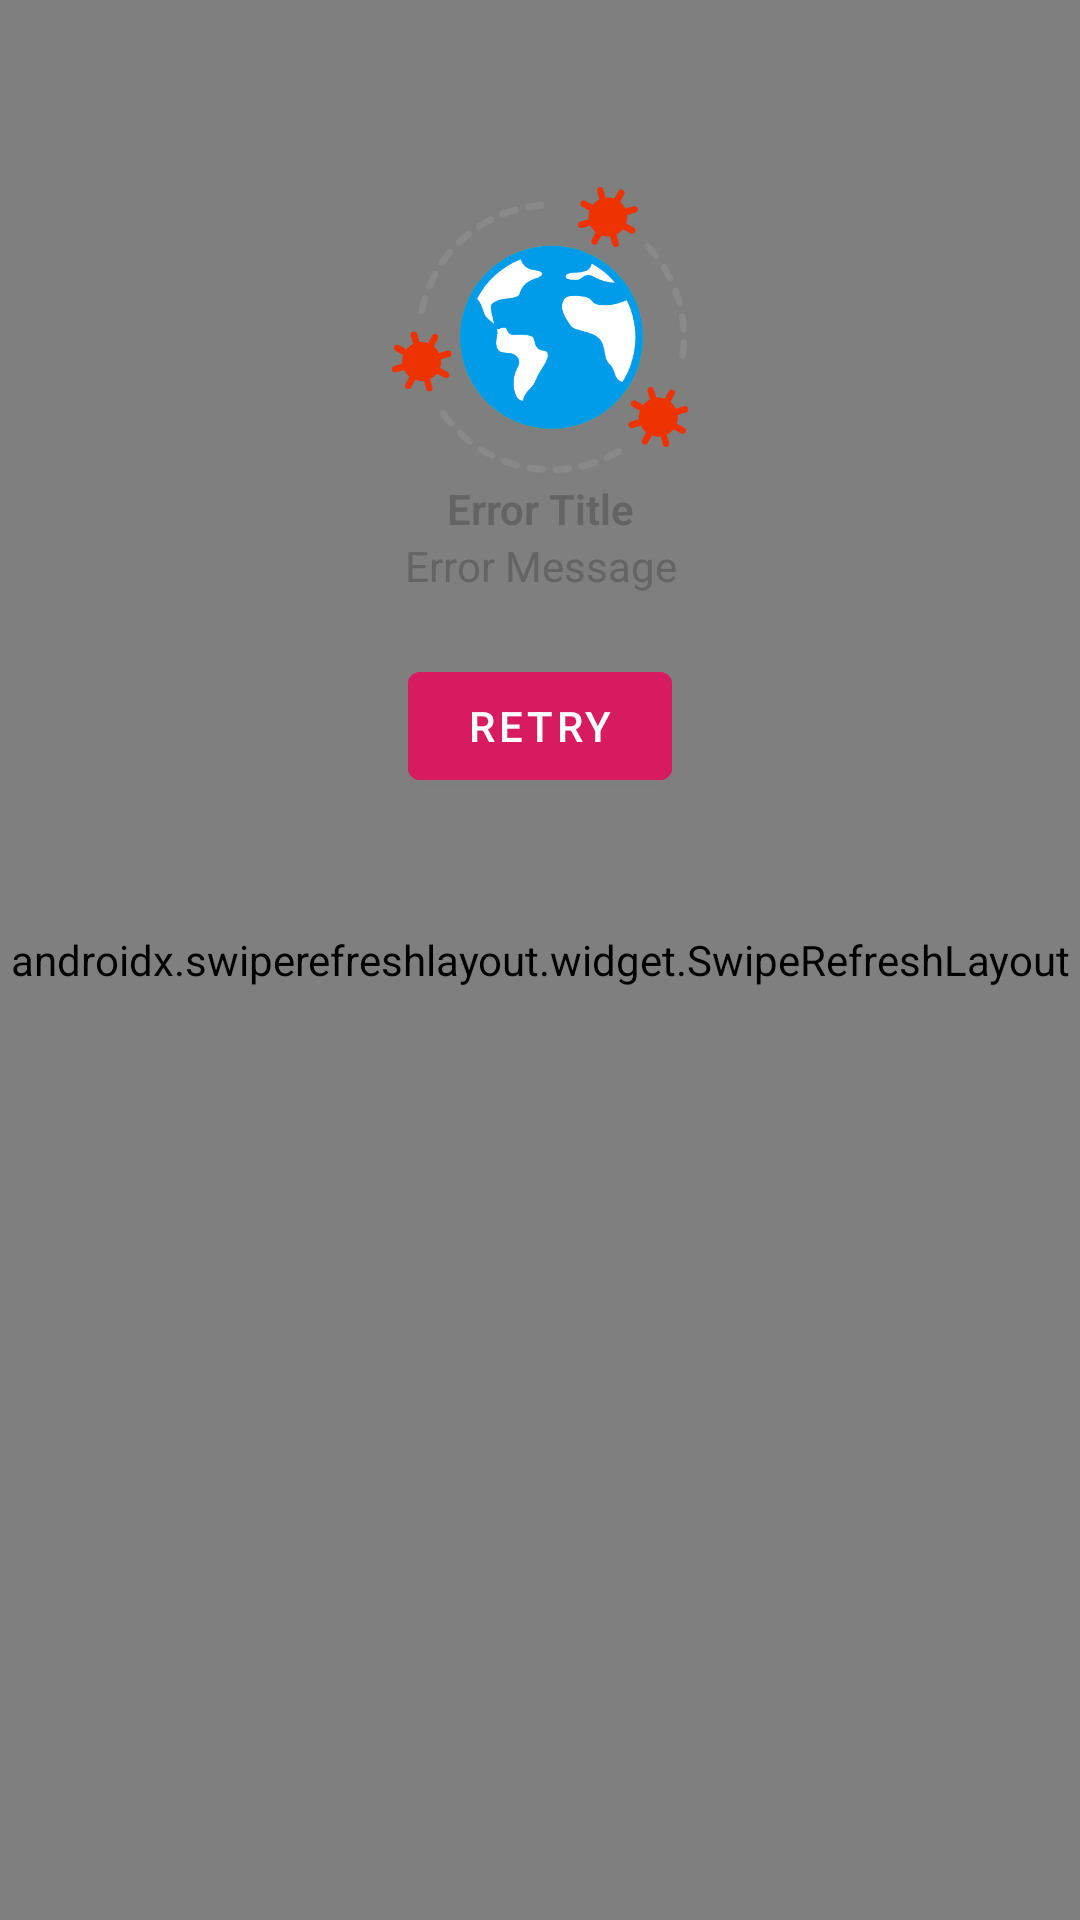

Screen size 1080*1920. Icon name, then its center in pixels as (x=x, y=y):
pandemic: (x=540, y=317)
